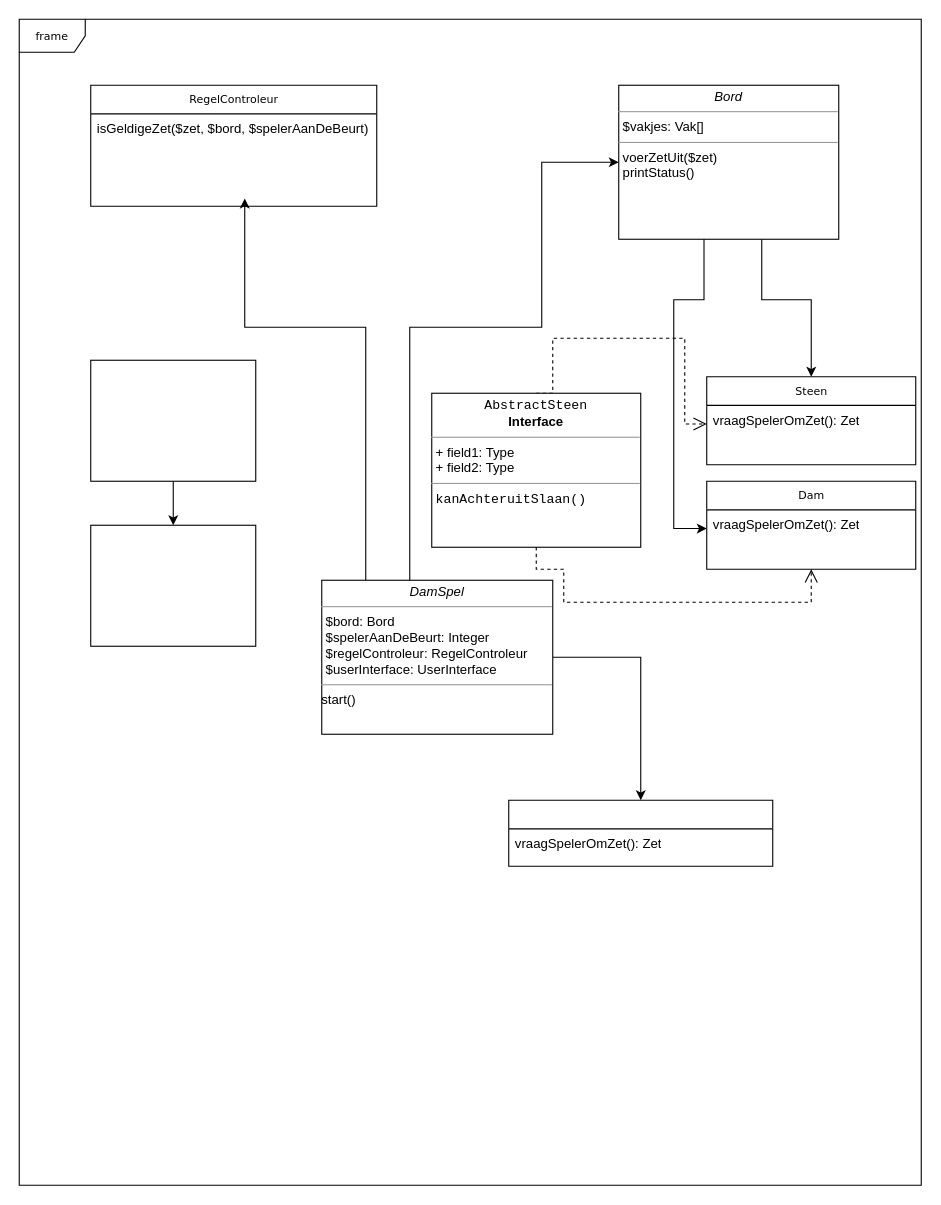
This 941x1205 diagram has some shape labels left out. Here are the shapes that lost their labels. From the top down, the box of each, then its label:
(90, 359, 256, 481): Zet $vanPositie: Positie $naarPositie: Positie
(90, 524, 256, 646): Positie $x: Integer $y: Integer
(508, 799, 773, 866): UserInterface
